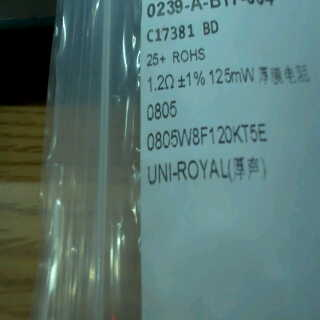1.2R: (143, 69, 178, 127)
